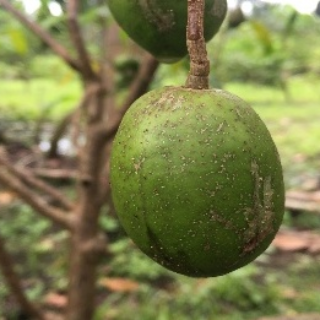coc: (110, 84, 285, 275)
